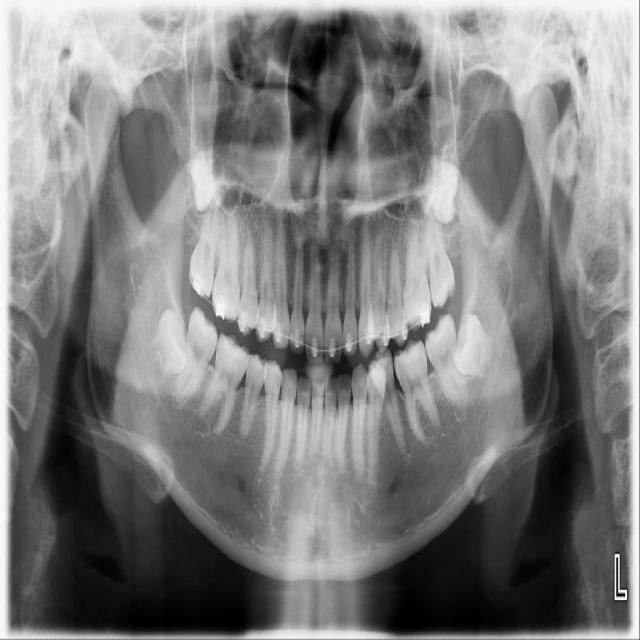3M ESPE Implant: (184, 149, 233, 213)
73: (599, 536, 602, 546)
BioHorizons Implant: (421, 202, 458, 310)
BioLife Implant: (415, 154, 462, 224)
Biomet 3i Implant: (447, 310, 505, 382)
Blue Sky Bio Implant: (418, 312, 475, 415)
Caries: (184, 184, 226, 299)
Implant: (171, 304, 225, 409)
Keystone Dental Implant: (145, 306, 195, 381)
